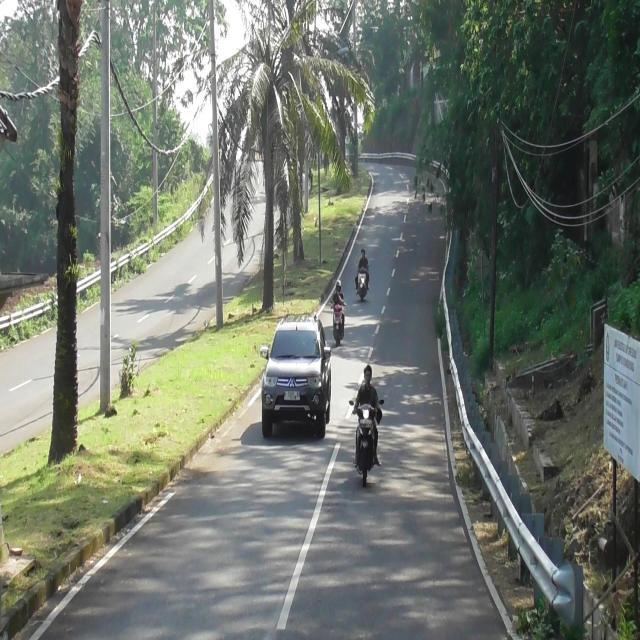motorcycle: (356, 402, 378, 478), (332, 300, 344, 345), (358, 266, 368, 300)
person: (353, 362, 381, 466), (356, 252, 369, 285), (333, 279, 345, 309)
rider_region: (354, 354, 383, 490), (332, 272, 346, 346), (357, 244, 370, 302)
